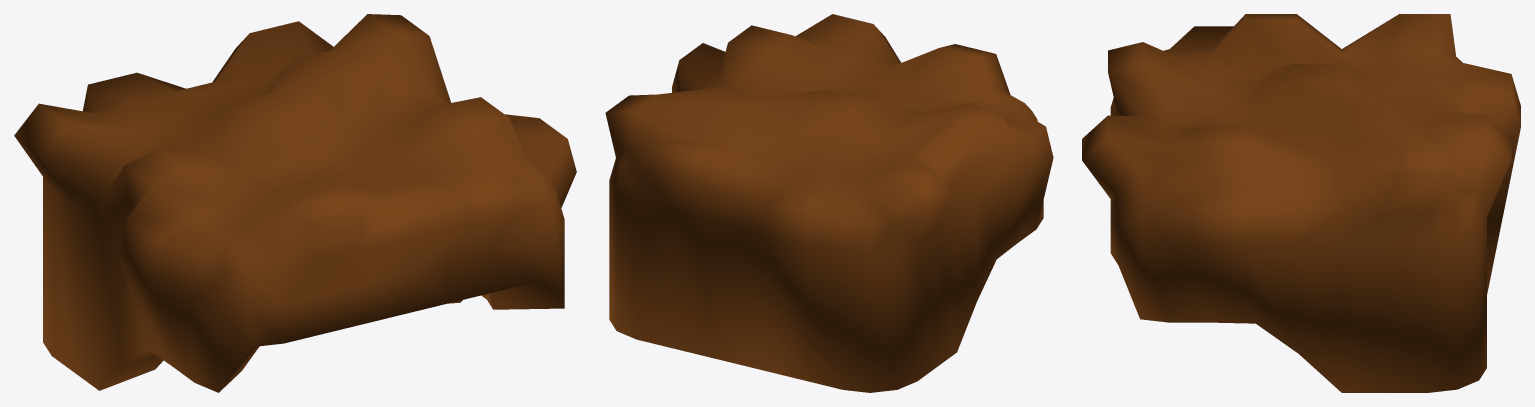
File: hairWild.fbx
3 renders of one model, left to right at view 1: azimuth 30°, elevation 25°; view 2: azimuth 150°, elevation 25°; view 3: azimuth 270°, elevation 25°, orthographic. The views are drawn at different scales.
Parts seen in each view (by area): view 1: Wild Hair; view 2: Wild Hair; view 3: Wild Hair.
Part boxes in pixels (x1,y1,x2,y2): Wild Hair: [14, 14, 576, 392]; Wild Hair: [605, 14, 1053, 392]; Wild Hair: [1082, 14, 1520, 392].
Bounding box in the file's own units: 66.08 × 64.69 × 37.12.
